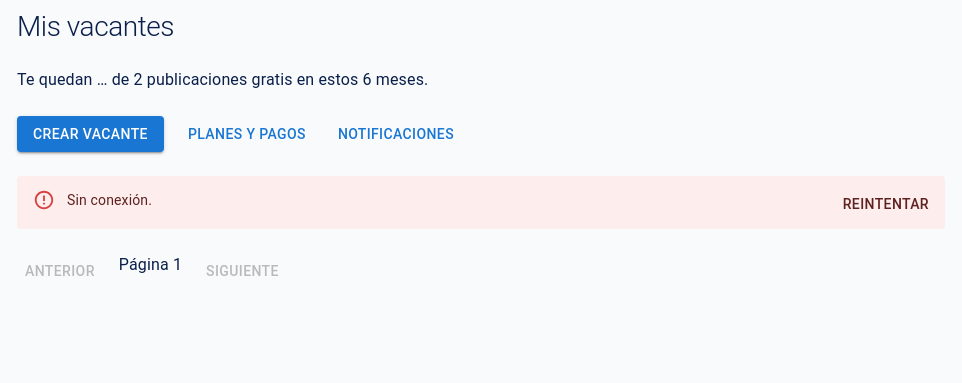
Test case: MisVacantes › si falla la carga: error con «Reintentar» (no «Revisar mi empresa») y sin «Cargando»
Expected: the message reads "Sin conexión. Reintentar", [17, 176, 945, 229]
Click the button "Reintentar": [886, 204] box [835, 186, 937, 223]
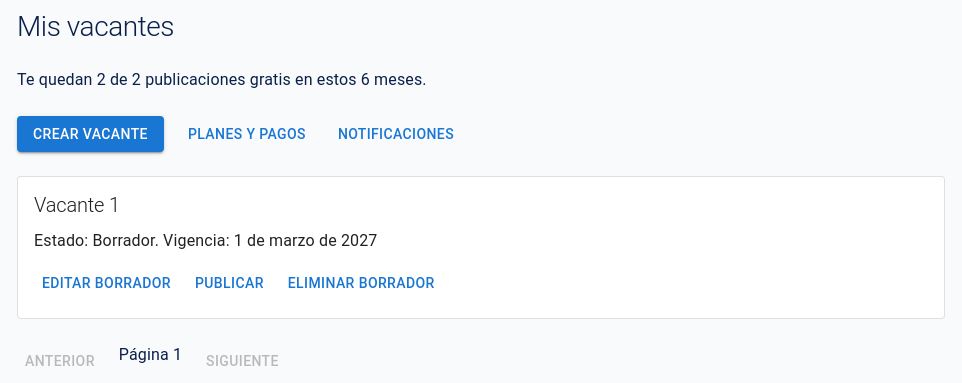
Expected: the heading "Vacante 1" is shown, [34, 193, 120, 217]
Expected: the message "Sin conexión. Reintentar" is gone
